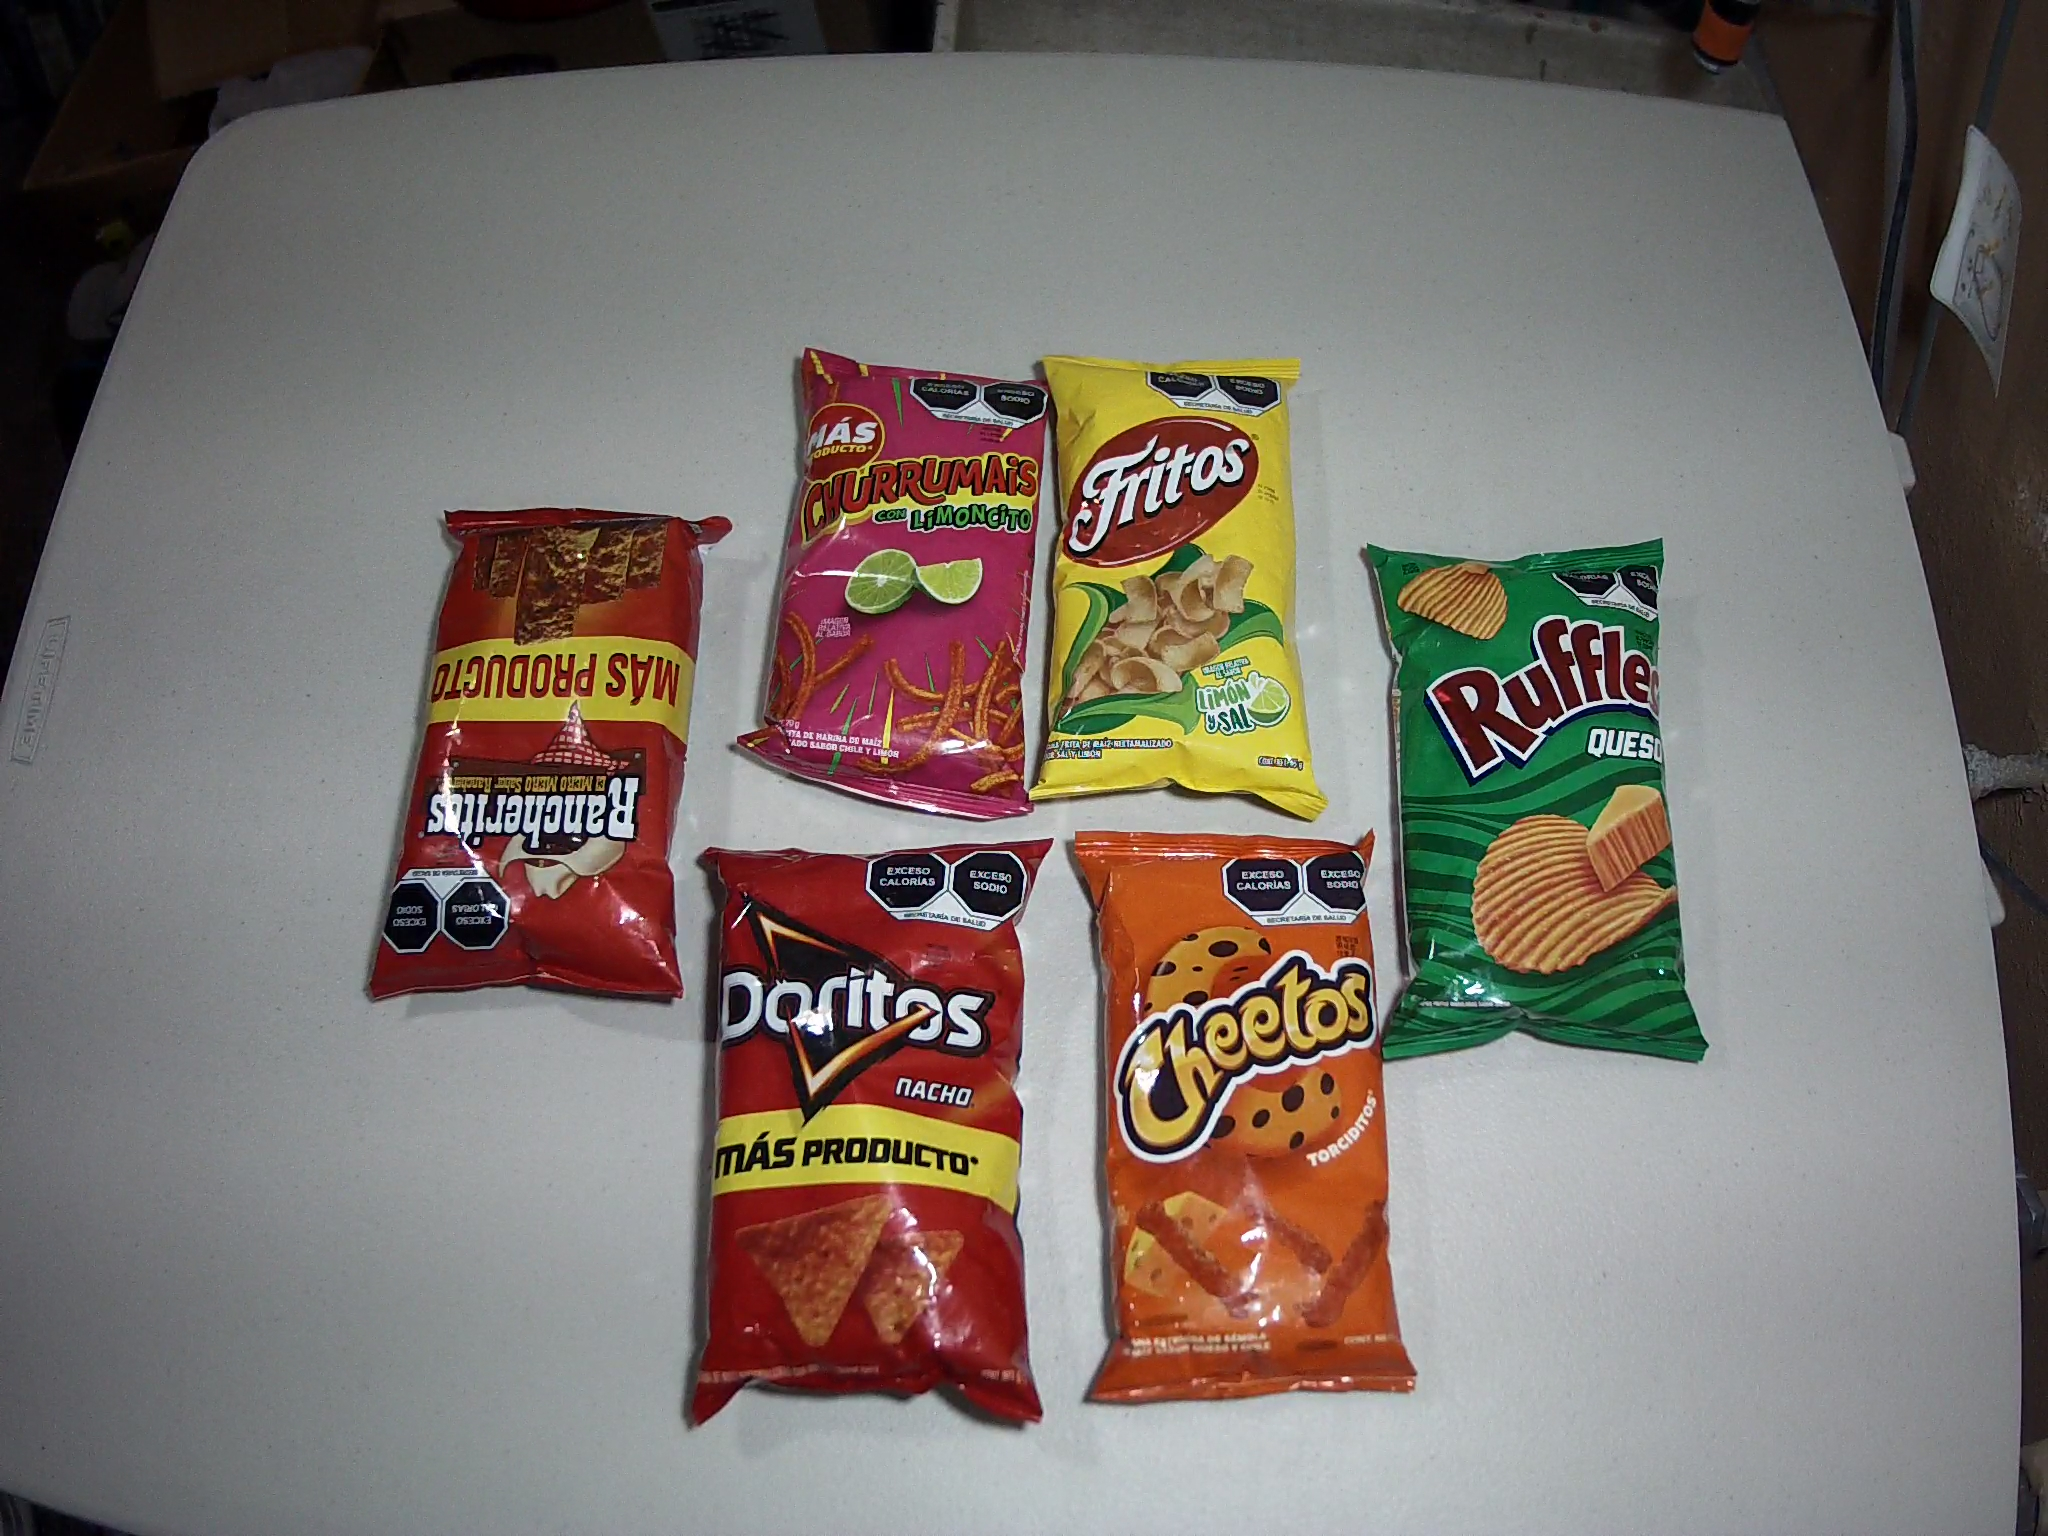CheetosTorciditos_55_F: (1076, 829, 1416, 1407)
Churrumais_70_F: (735, 344, 1053, 824)
DoritosN_61_F: (692, 837, 1055, 1426)
FritosSalLimon_65_F: (1030, 352, 1324, 826)
Rancheritos_58_F: (369, 503, 731, 1004)
RufflesQ_48_F: (1359, 541, 1713, 1060)
